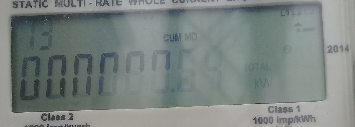digit: (199, 44, 227, 92), (174, 46, 200, 95), (43, 52, 69, 99), (69, 50, 95, 97), (96, 50, 122, 97), (121, 48, 147, 95), (145, 49, 171, 96), (18, 53, 42, 100)
